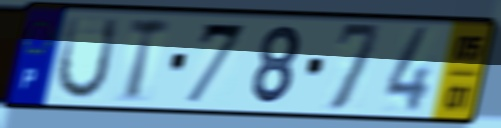4: (382, 24, 433, 116)
7: (184, 19, 249, 105), (330, 19, 381, 116)
8: (250, 23, 304, 107)
T: (124, 15, 174, 105)
U: (53, 13, 123, 103)
